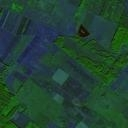alloviz: (76, 23, 91, 38)
